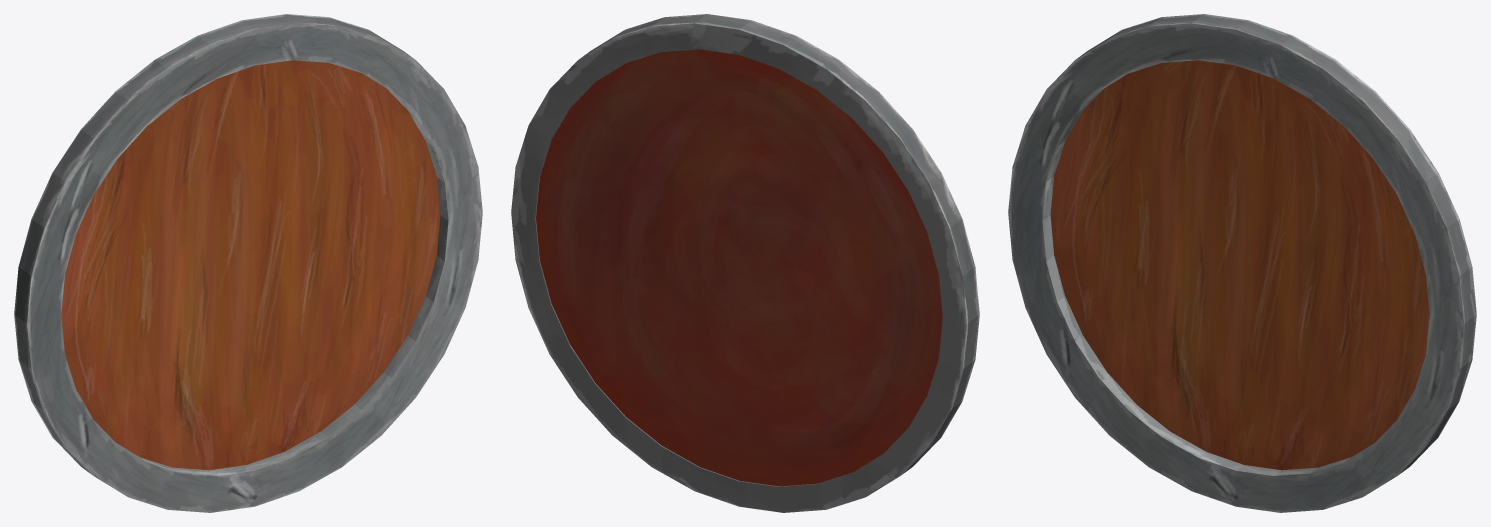
The model's file is shield1.fbx.
3 renders of one model, left to right at view 1: azimuth 30°, elevation 25°; view 2: azimuth 150°, elevation 25°; view 3: azimuth 330°, elevation 25°, orthographic.
Parts seen in each view (by area): view 1: Cylinder; view 2: Cylinder; view 3: Cylinder.
Boxes of the visible parts, bbox=[...] form: Cylinder: bbox=[14, 14, 482, 512]; Cylinder: bbox=[511, 14, 979, 512]; Cylinder: bbox=[1008, 14, 1476, 512].
Size of the model in its own units: 62.13 by 62.13 by 3.03.
